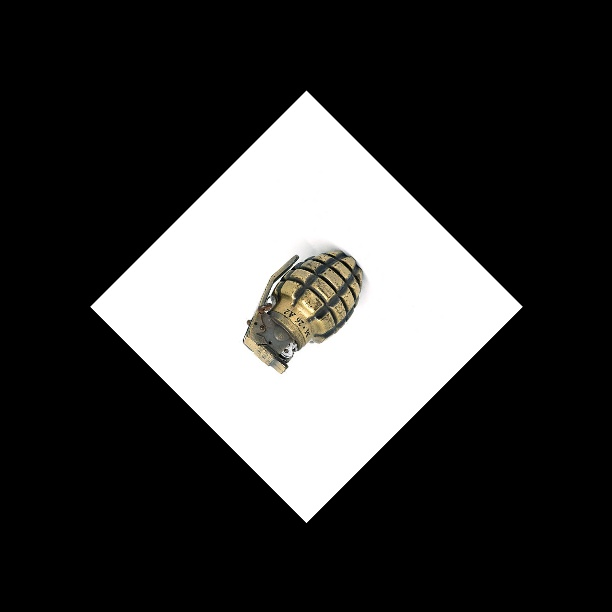e1: (245, 241, 364, 372)
